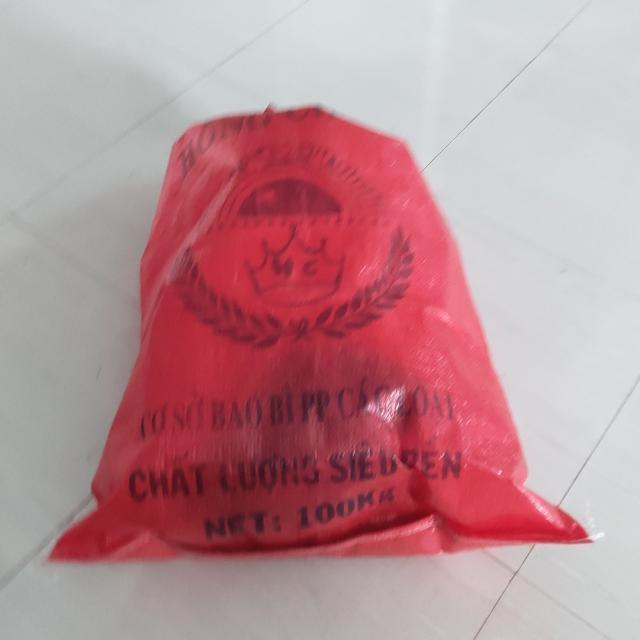gunny_bag: (50, 107, 590, 562)
